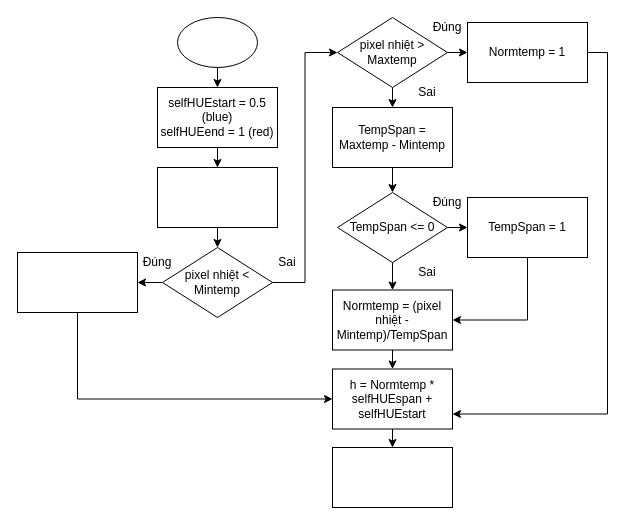
Image size: 633x525. Some labels were removed from this diagram. The centre of each missing label's shape, as x and y in pixels:
Bắt đầu: point (217, 42)
Normtemp = 0: point (77, 282)
RGB = colorsvs.hsv_to_rgb(h, 1,1): point (392, 477)
selfHUEspan = selfHUEend - selfHUEstart: point (217, 197)
